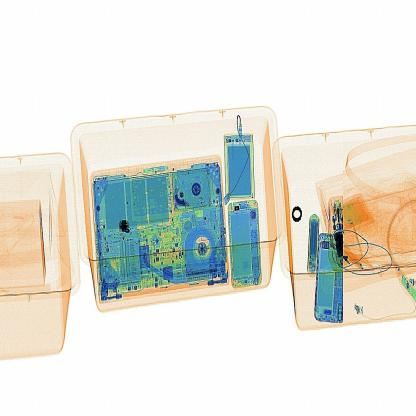scissors: (115, 202, 140, 241)
